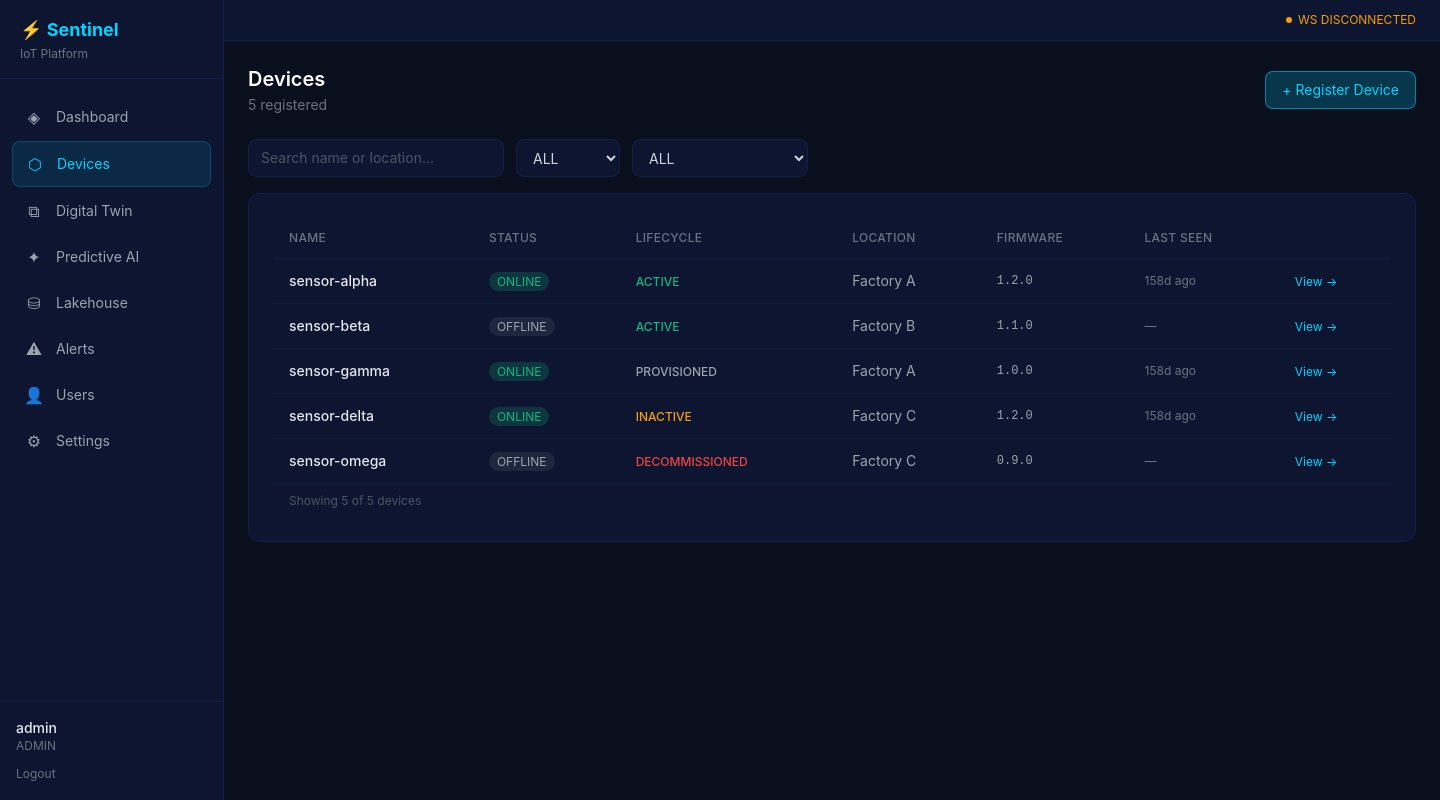
Test: Devices Page › filter by OFFLINE status hides ONLINE devices
Select "OFFLINE" in the 1st dropdown at (568, 158), box [516, 139, 620, 177]
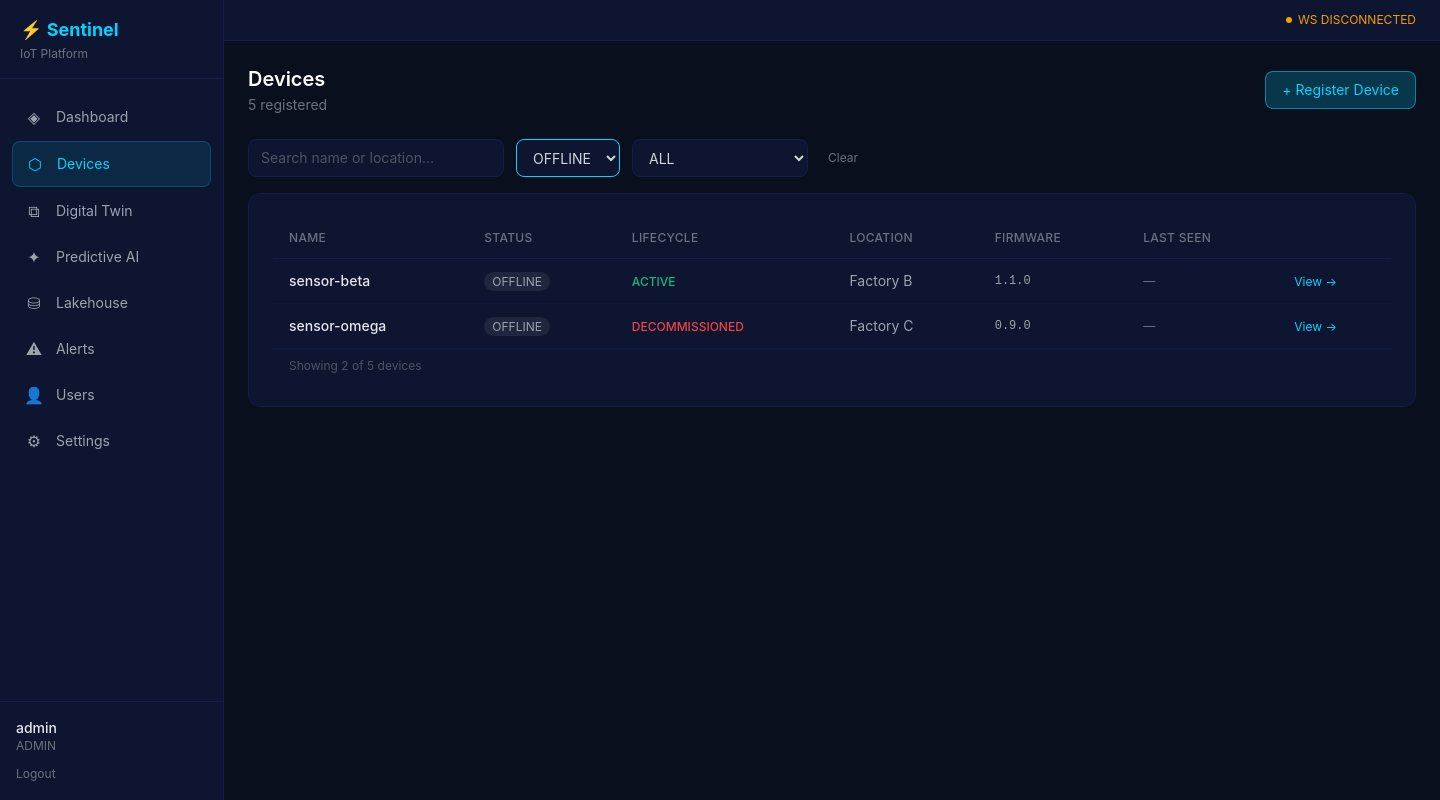
Expected: the text "sensor-beta" is shown, [273, 258, 468, 304]
Expected: the text "sensor-alpha" is gone
